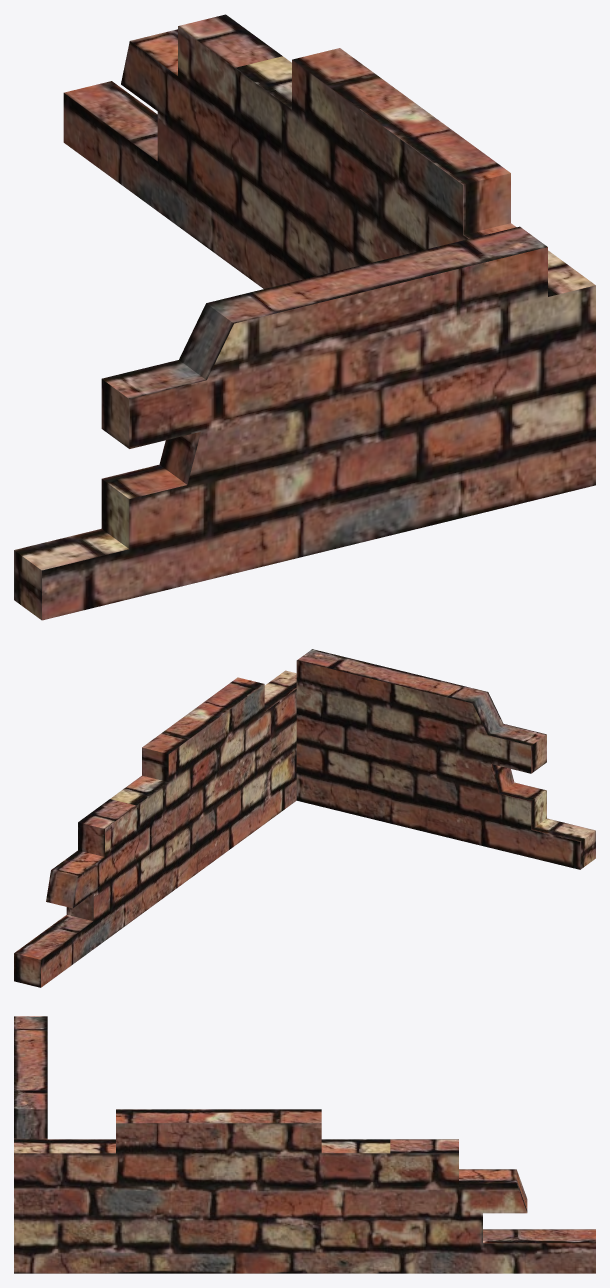
Rendered from Wall000.fbx.
3 renders of one model, top to bottom at view 1: azimuth 30°, elevation 25°; view 2: azimuth 150°, elevation 25°; view 3: azimuth 270°, elevation 25°, orthographic. The views are drawn at different scales.
Parts seen in each view (by area): view 1: Box004; view 2: Box004; view 3: Box004.
Part boxes in pixels (x1,y1,x2,y2): Box004: [14, 14, 595, 620]; Box004: [14, 649, 595, 987]; Box004: [14, 1016, 595, 1273].
Bounding box in the file's own units: 156 × 67.23 × 236.
